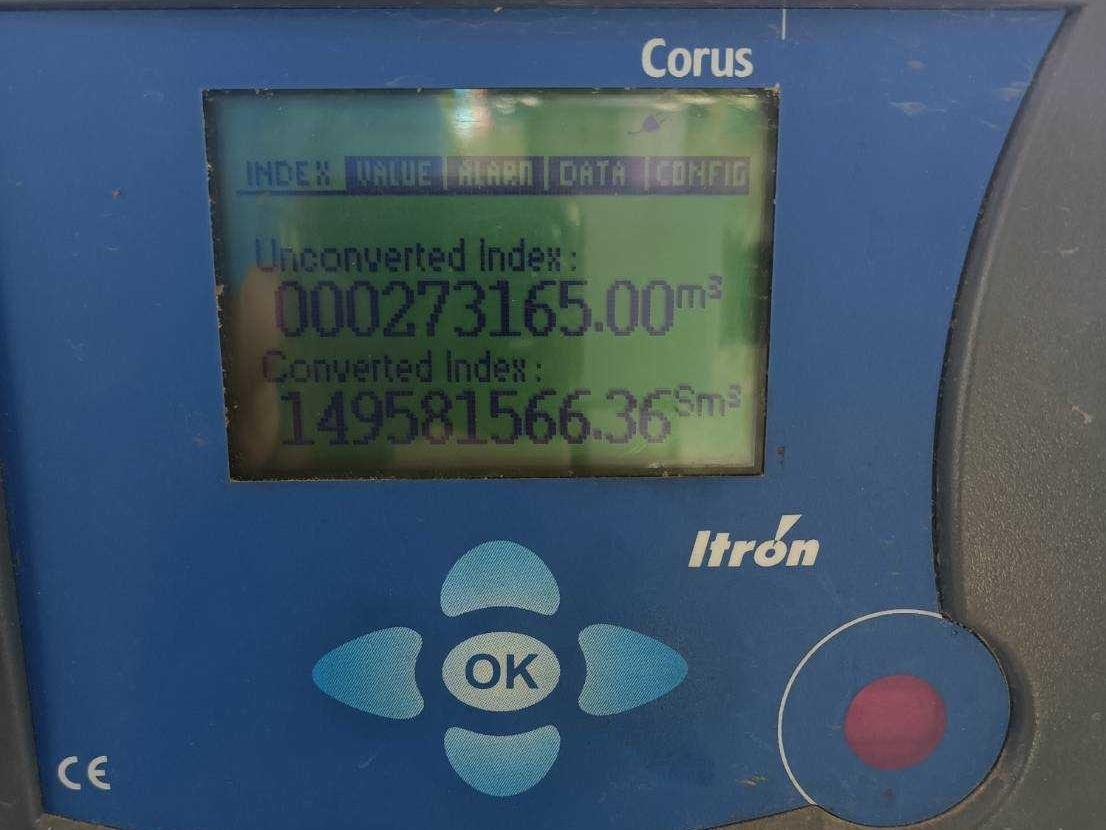digital_screen: (206, 88, 779, 480)
